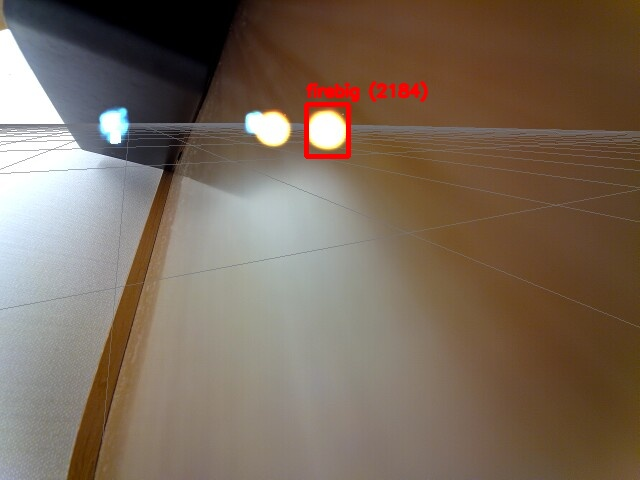firebig: (306, 104, 348, 156)
